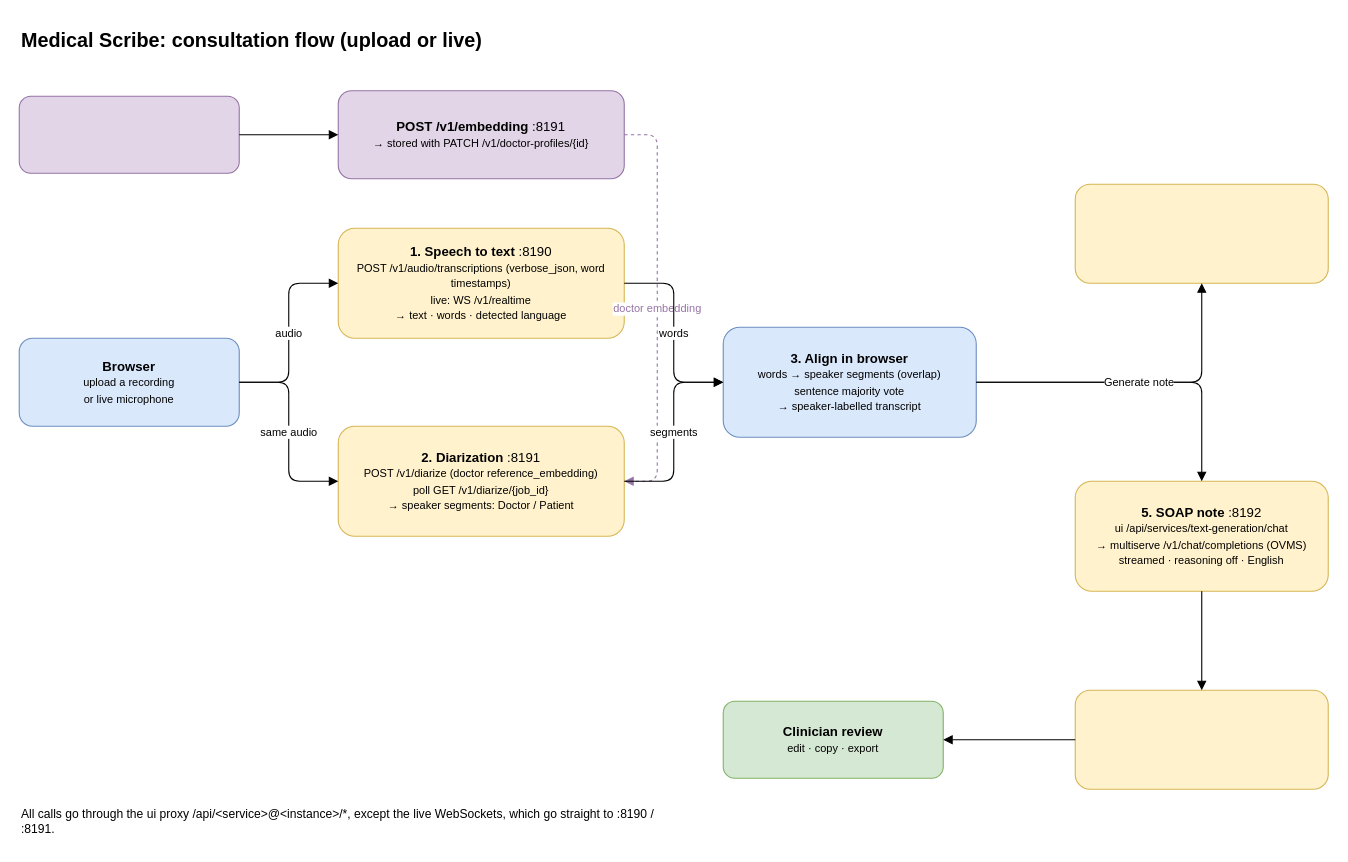
Image size: 1348x862. Some labels were removed from this diagram. Each missing label, with the box of its shape:
0. Doctor enrolment (once) record ≥ 3 s voice sample: (18, 95, 239, 173)
4. Save transcript :8193 PATCH /v1/sessions/{id} transcripts · status=completed: (1074, 183, 1328, 283)
6. Save SOAP note :8193 PATCH /v1/sessions/{id} soapReport · reportCreatedAt: (1074, 689, 1328, 789)
